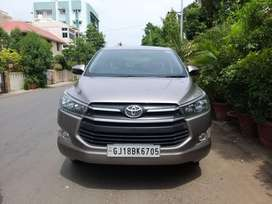GJ18BK6705: (107, 144, 160, 157)
